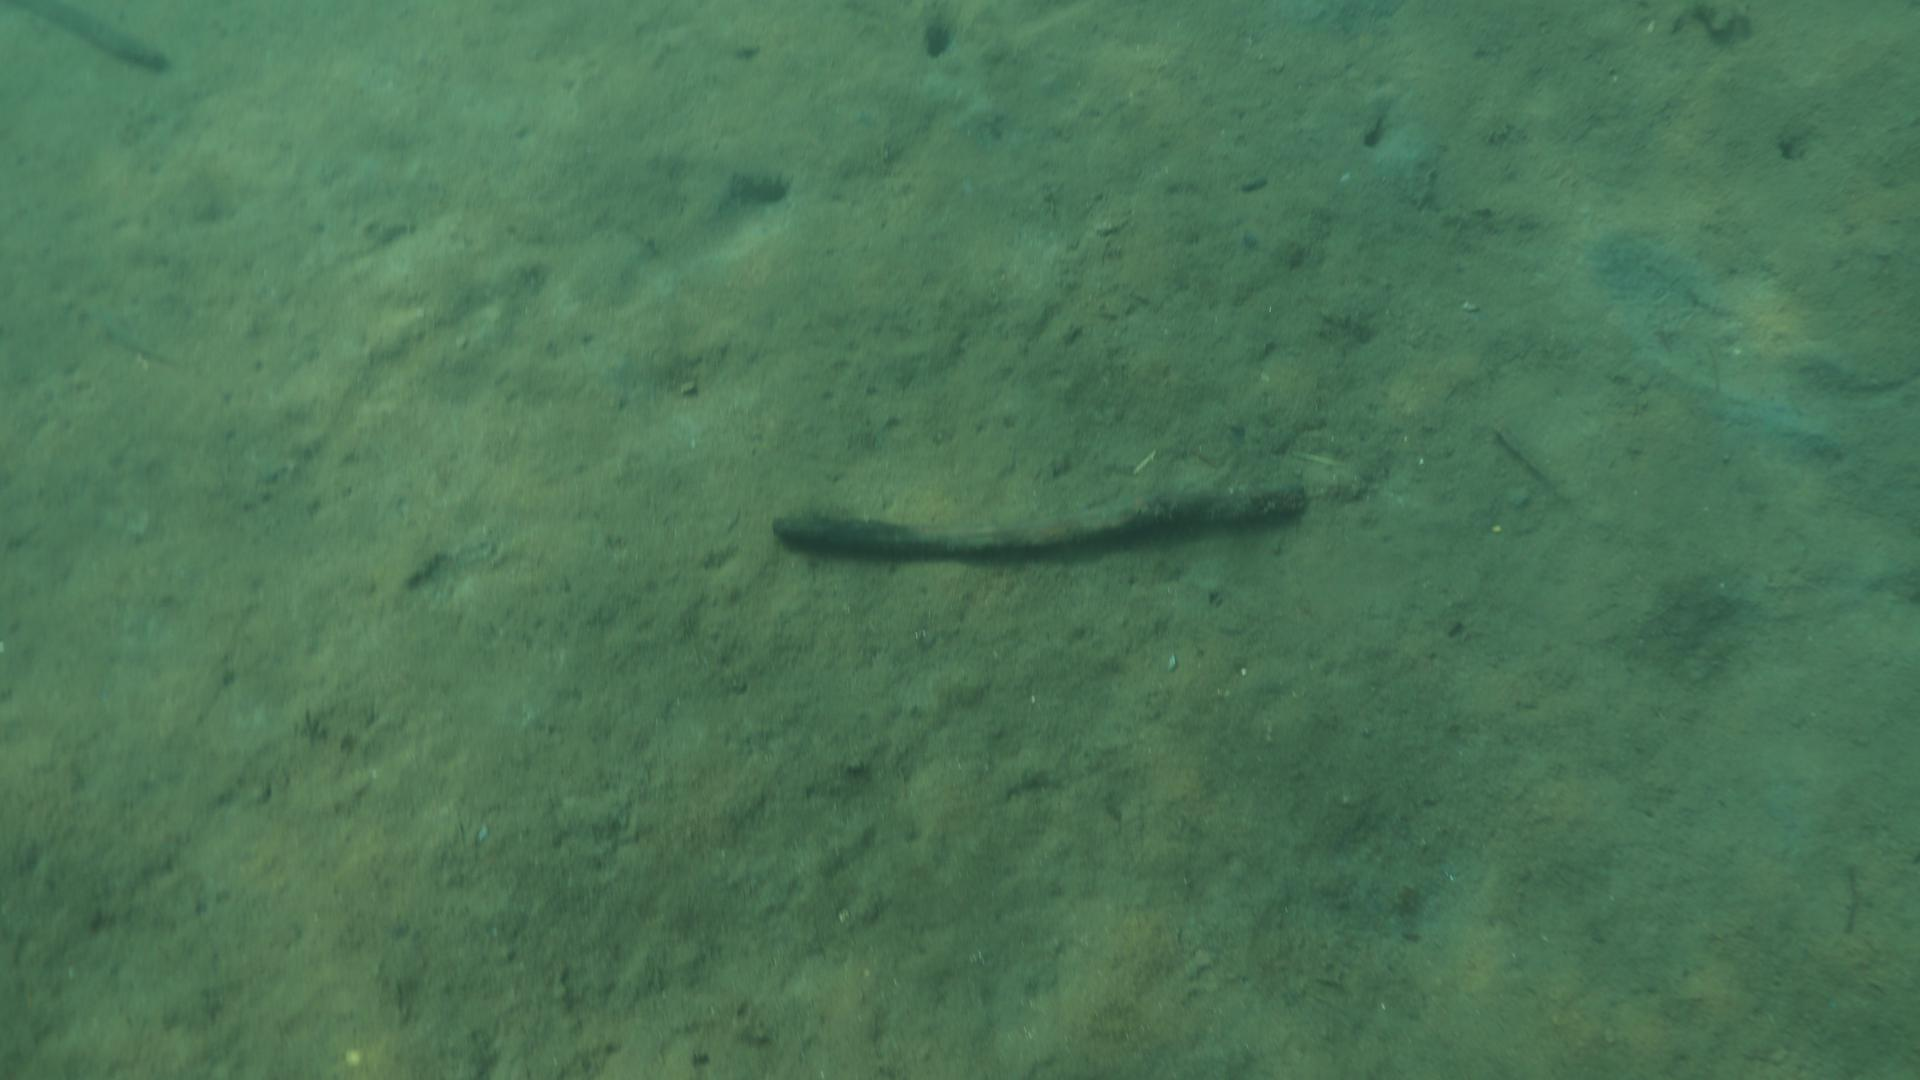wood: (769, 481, 1308, 553)
